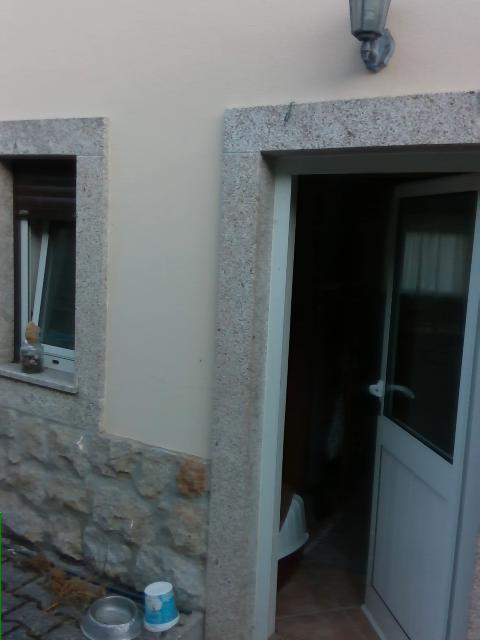semi_door: (250, 142, 479, 639)
